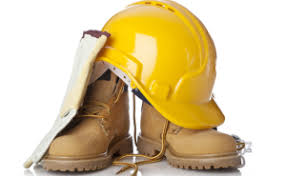Helmet: (103, 1, 230, 123)
Shoes: (46, 72, 136, 171), (142, 100, 253, 171)
